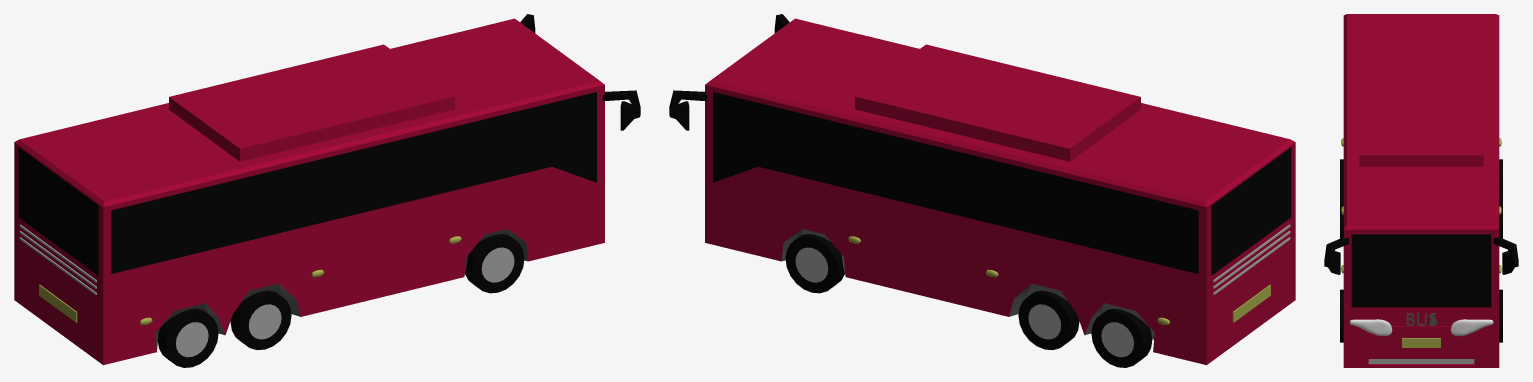
Rendered from Bus_01.fbx.
The picture shows the model from 3 angles, left to right: view 1: azimuth 30°, elevation 25°; view 2: azimuth 150°, elevation 25°; view 3: azimuth 270°, elevation 25°; orthographic projection. The views are drawn at different scales.
Visible parts, largest first — view 1: Bus_01, Tire_03, Tire_02, Tire_01, pCube129; view 2: Bus_01, Tire_03, Tire_02, Tire_01, pCube129; view 3: Bus_01, pCube129, pCube130, Tire_01, pCube134, Tire_02, Tire_03, typeMesh2.
Boxes of the visible parts, left/top/right/bottom form: Bus_01: left=14, top=18, right=604, bottom=365; Tire_03: left=158, top=308, right=218, bottom=367; Tire_02: left=230, top=290, right=291, bottom=349; Tire_01: left=465, top=234, right=524, bottom=293; pCube129: left=520, top=14, right=640, bottom=130; Bus_01: left=705, top=18, right=1295, bottom=365; Tire_03: left=1091, top=308, right=1152, bottom=367; Tire_02: left=1018, top=290, right=1079, bottom=349; Tire_01: left=785, top=234, right=844, bottom=293; pCube129: left=669, top=14, right=789, bottom=130; Bus_01: left=1343, top=14, right=1499, bottom=367; pCube129: left=1324, top=237, right=1518, bottom=274; pCube130: left=1349, top=319, right=1493, bottom=336; Tire_01: left=1340, top=289, right=1502, bottom=342; pCube134: left=1402, top=338, right=1440, bottom=347; Tire_02: left=1340, top=190, right=1502, bottom=238; Tire_03: left=1340, top=159, right=1502, bottom=190; typeMesh2: left=1406, top=313, right=1437, bottom=325.
Bounding box in the file's own units: 86.05 × 30.37 × 31.18.
